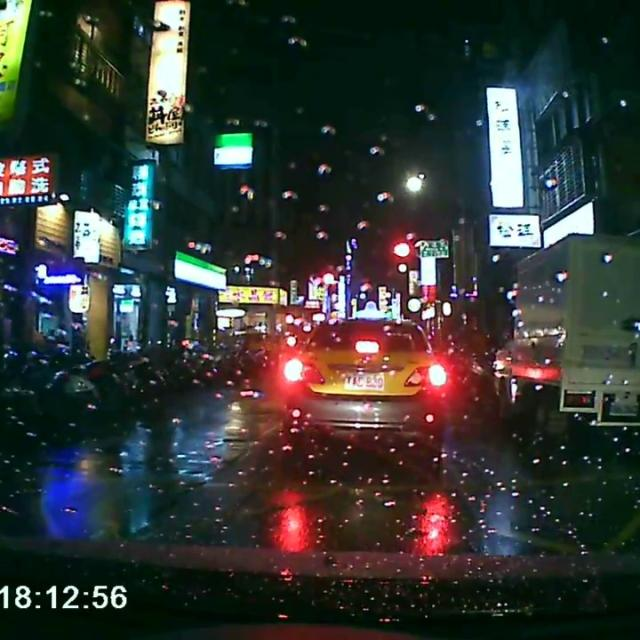Car: (276, 314, 449, 456)
